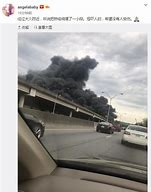smoke: (24, 55, 116, 112)
